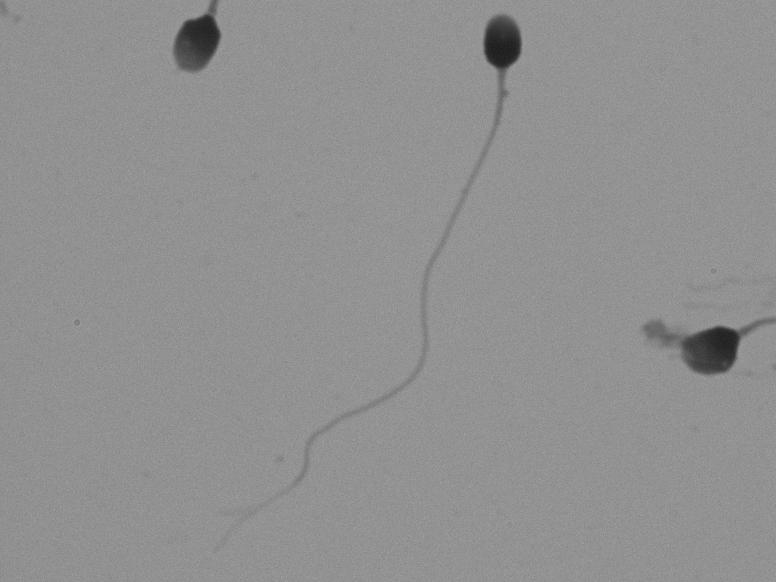Abnormal: (630, 250, 760, 449), (149, 6, 268, 120)
Normal: (236, 10, 560, 569)
